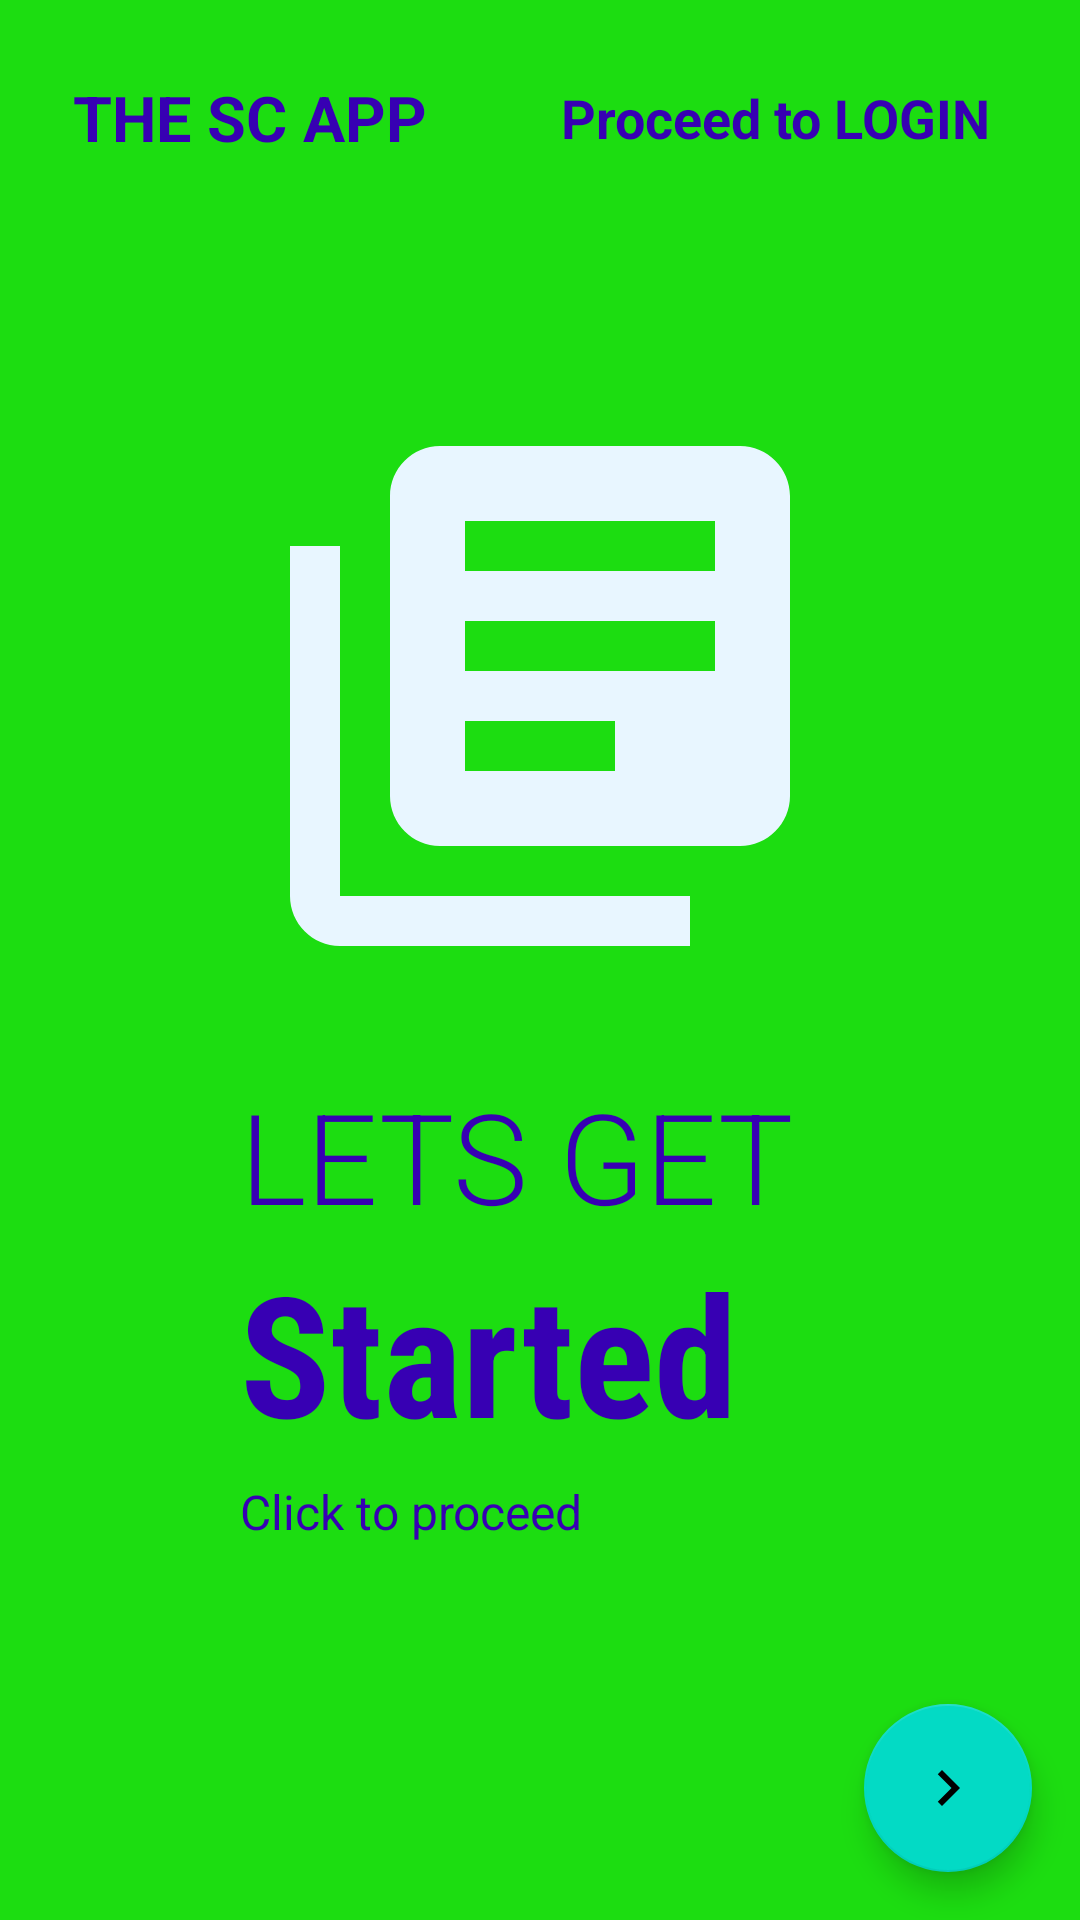

Icons on this 1080px×1920px Android screen, each with the point to tap as (x,y):
next: (948,1788)
